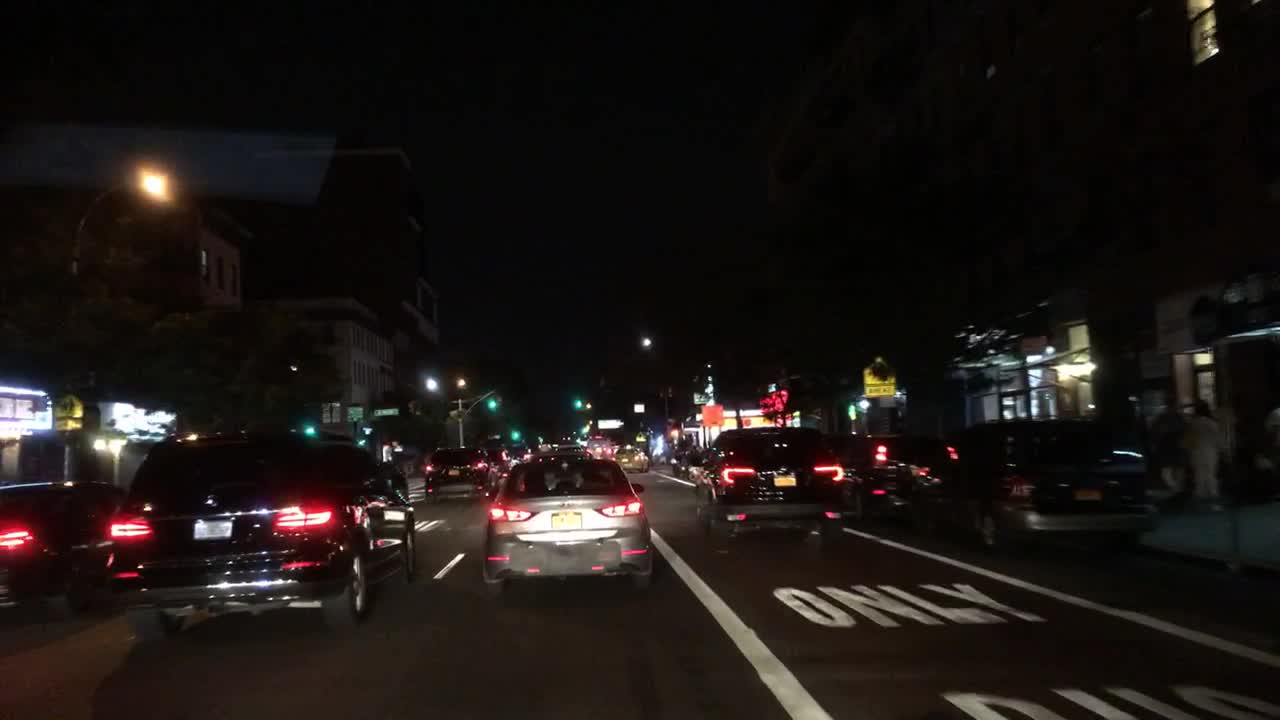car: (112, 429, 416, 648), (953, 415, 1156, 549), (482, 458, 652, 606), (698, 425, 845, 548), (0, 480, 128, 614), (839, 432, 958, 515), (423, 444, 503, 506), (482, 443, 521, 476), (530, 444, 594, 463), (613, 443, 650, 473), (670, 444, 699, 476), (686, 447, 709, 482), (585, 438, 614, 459), (538, 442, 582, 453), (511, 447, 533, 462)
person: (1188, 398, 1228, 506), (1153, 389, 1186, 497)
traffic light: (302, 420, 315, 436), (488, 393, 497, 410), (511, 429, 521, 441), (574, 396, 582, 410), (580, 425, 587, 438)
traffic sign: (863, 358, 899, 398), (56, 393, 83, 431), (702, 404, 724, 422), (370, 407, 399, 418), (692, 389, 711, 404), (596, 419, 621, 429), (347, 407, 364, 421), (632, 400, 646, 414), (636, 430, 646, 444)
